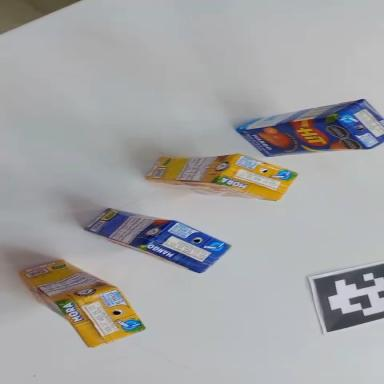HIT-MANGO: (84, 190, 232, 283), (234, 97, 384, 158)
HIT-MORA: (14, 231, 152, 366), (145, 151, 297, 201)
cara_F: (11, 272, 96, 347), (238, 114, 366, 159), (149, 181, 274, 201)
